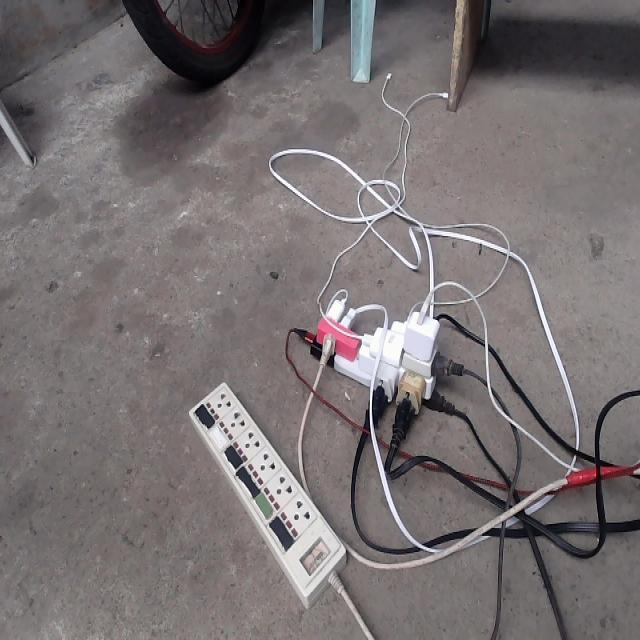-: (293, 285, 469, 435)
